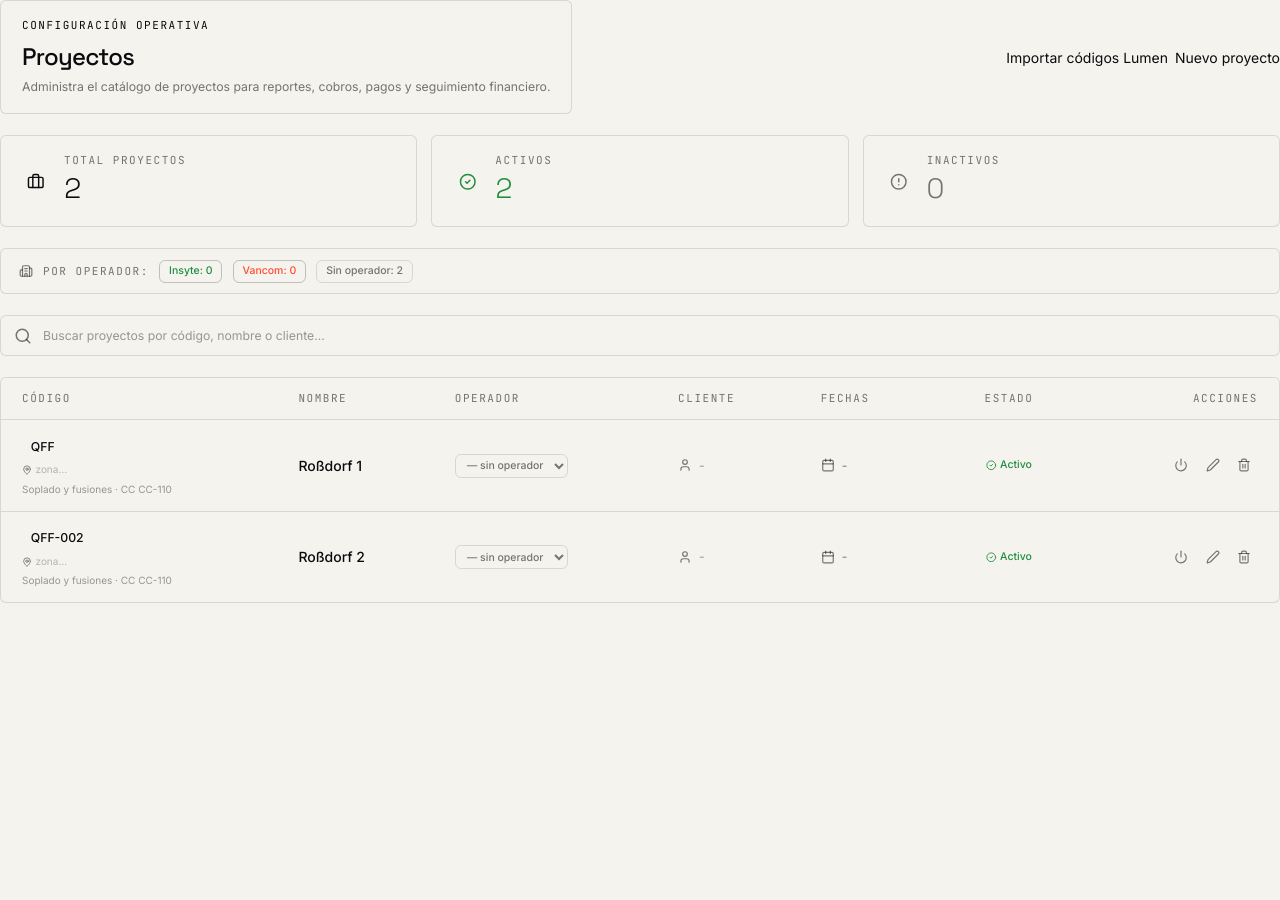
Test: Projects — merge-group rename warning › warns when the structured code being saved is a merge target another live project resolves to
Click the button titled "Editar" in the row of "Roßdorf 1" at (1212, 465), box [1198,451,1226,479]
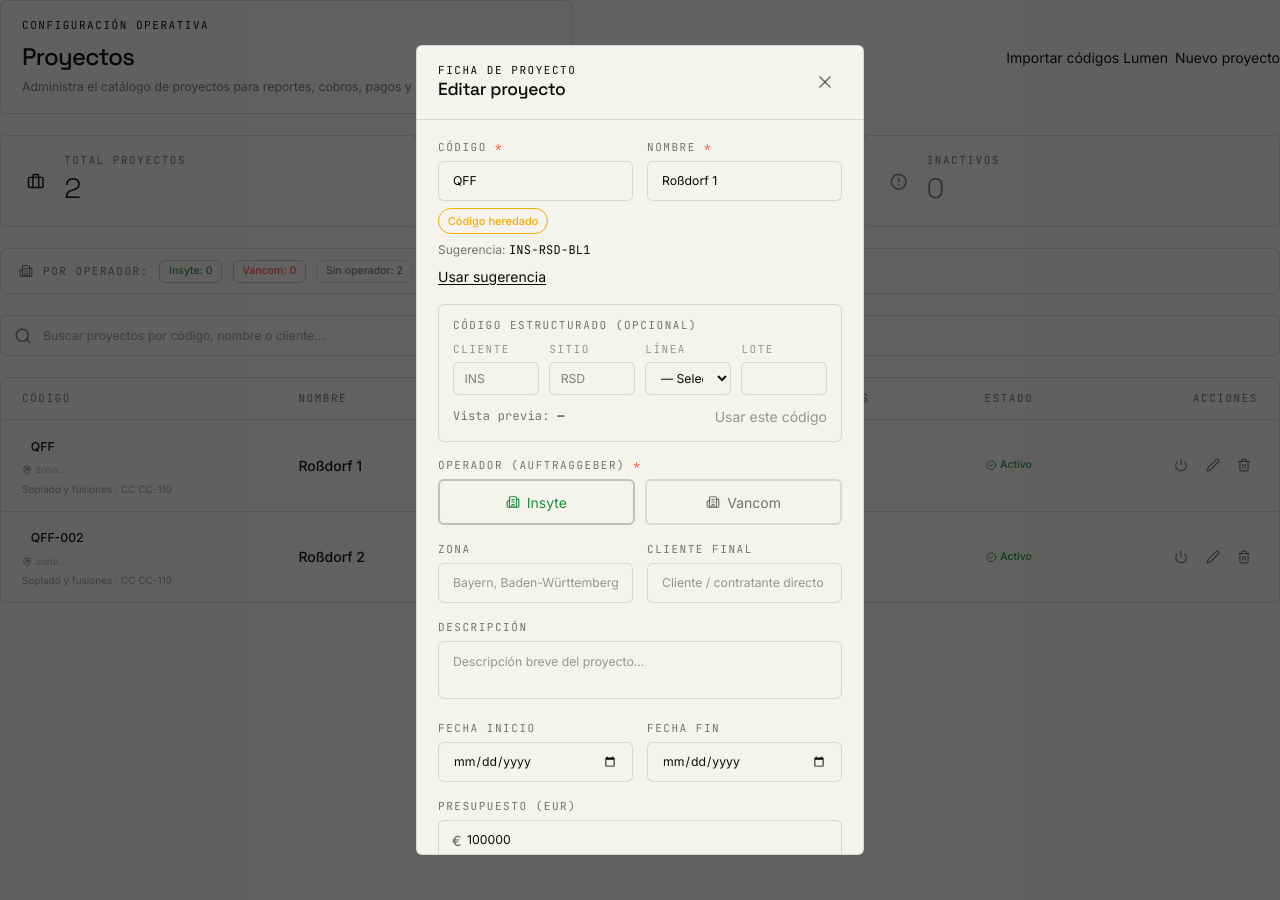
Replace the text in the 1st field with placeholder "PROY-001" with "INS-RSD-BL1" at (536, 181), box [438,161,633,201]
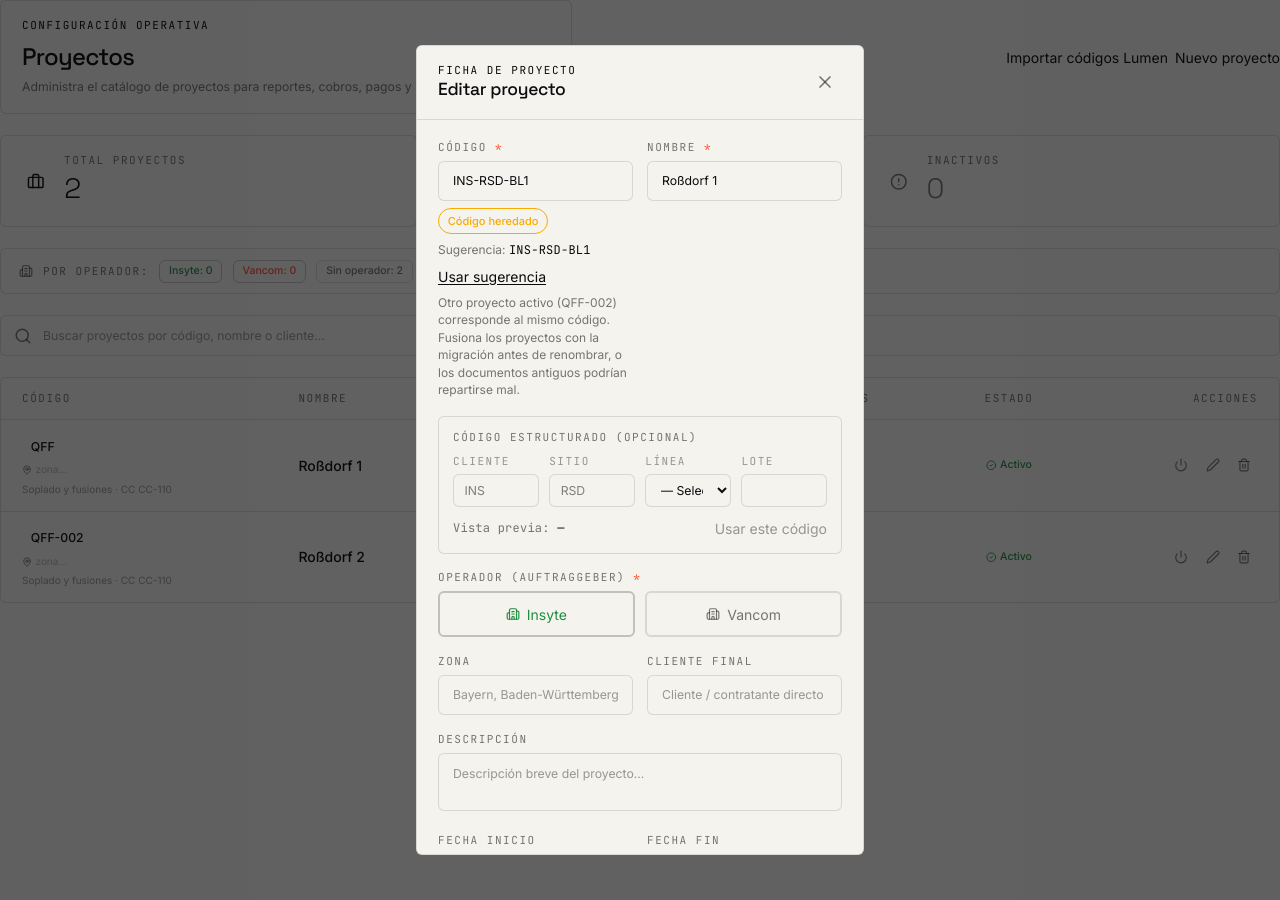
expect the text "Otro proyecto activo (QFF-002) corresponde al mismo código" is shown: met, box [438,294,633,399]
expect the text "Fusiona los proyectos con la migración antes de renombrar" is shown: met, box [438,295,627,397]
